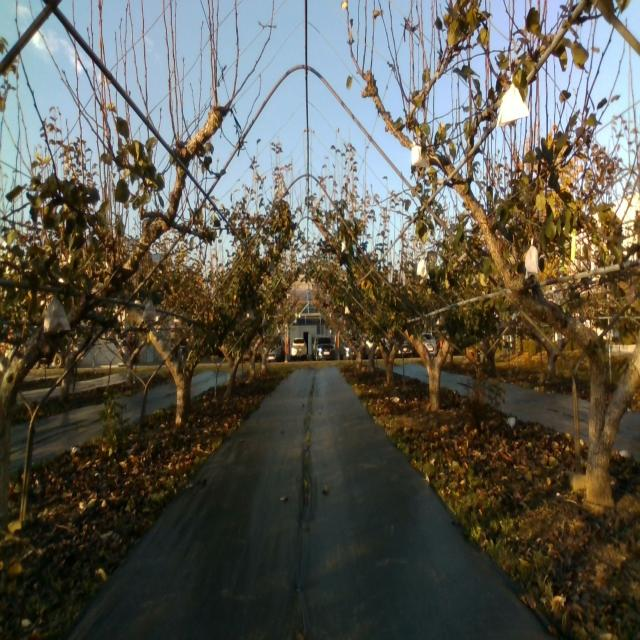pearbags: (497, 82, 531, 126), (44, 297, 71, 332), (525, 238, 540, 278), (411, 140, 430, 168), (143, 300, 156, 324), (416, 258, 429, 280)
